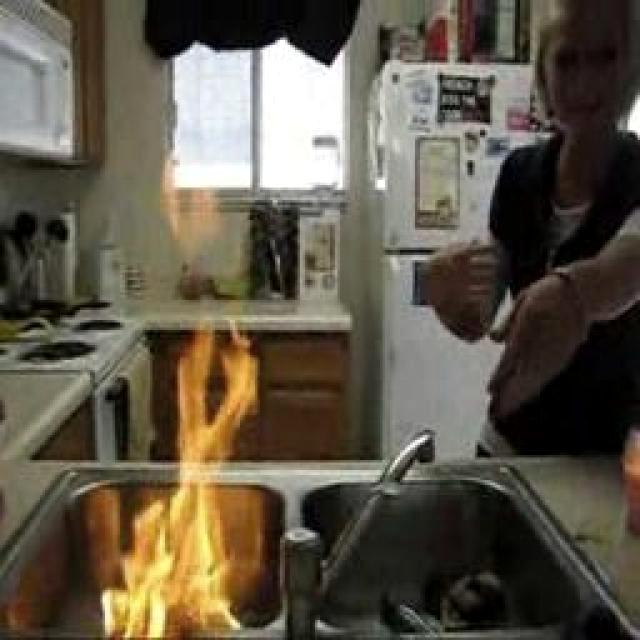fire: (107, 316, 257, 640), (152, 141, 240, 259)
